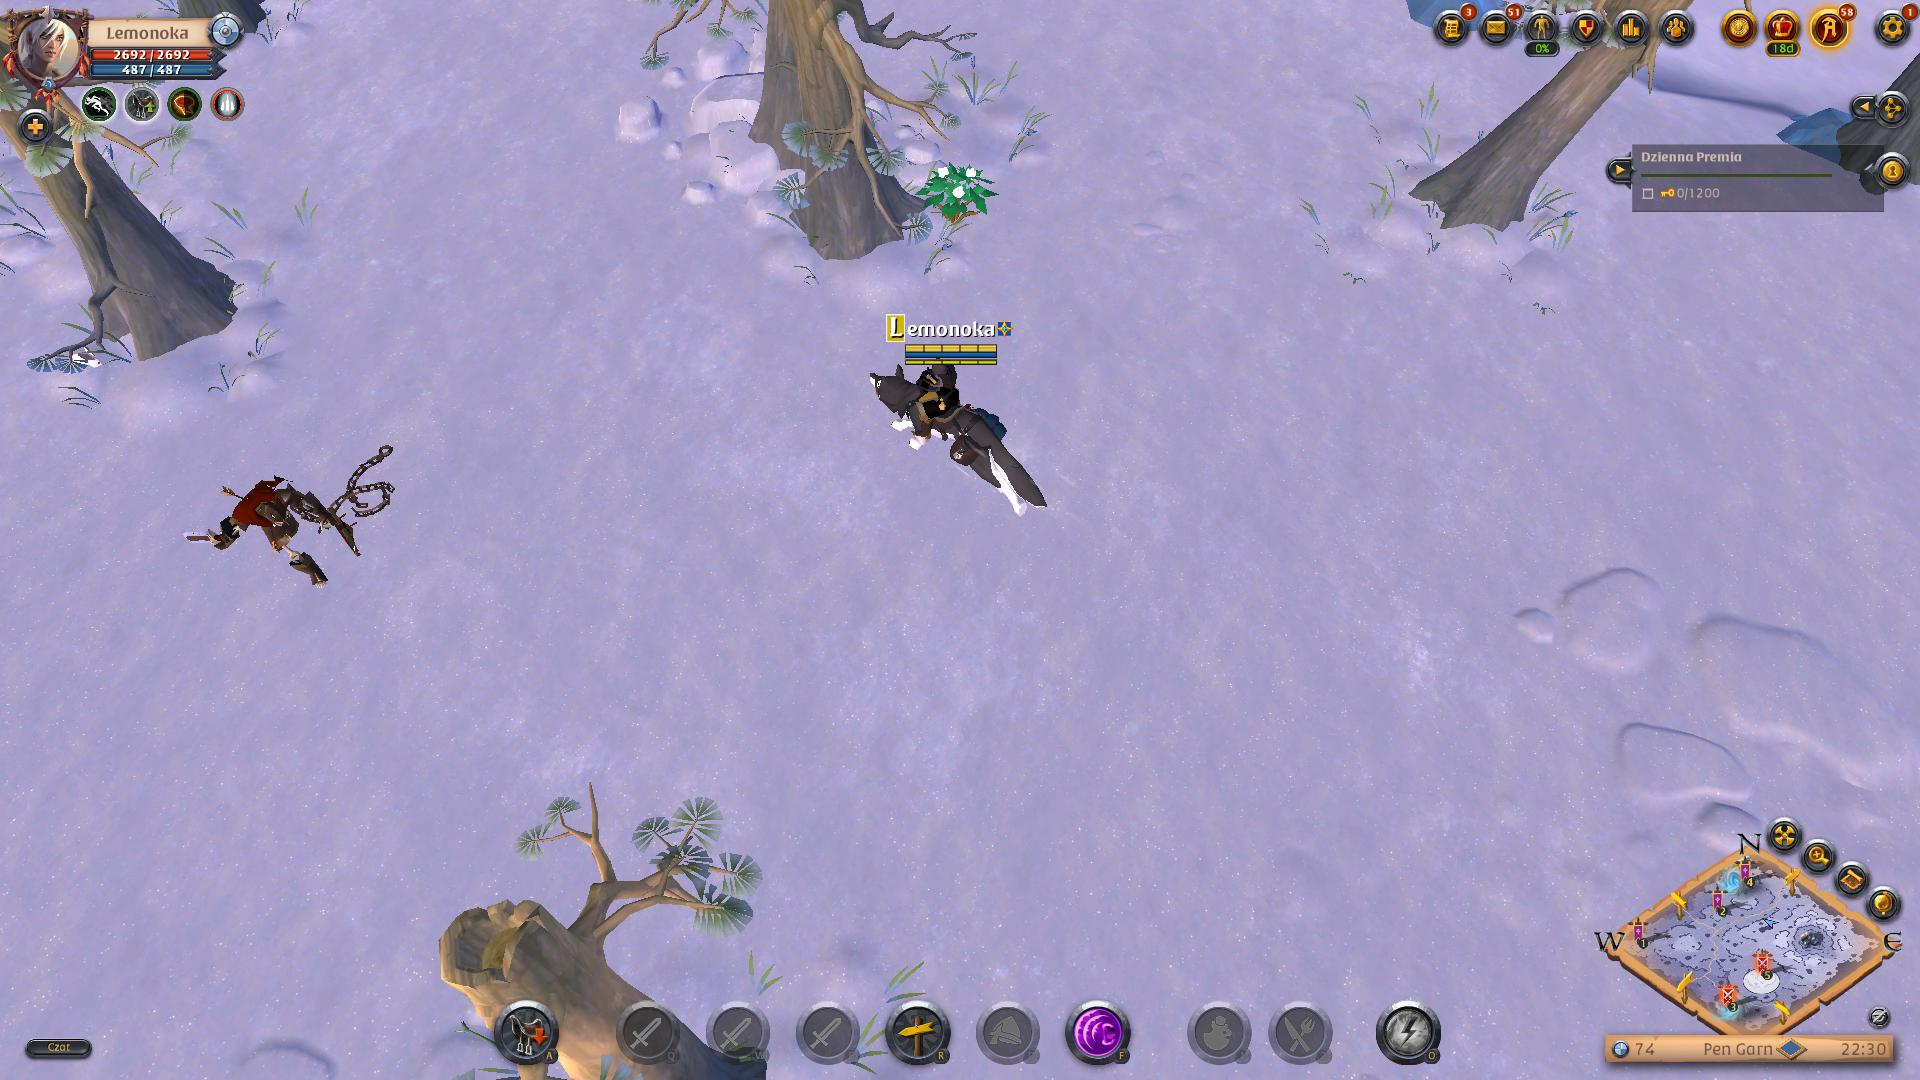fiber tier 3: (916, 160, 998, 228)
